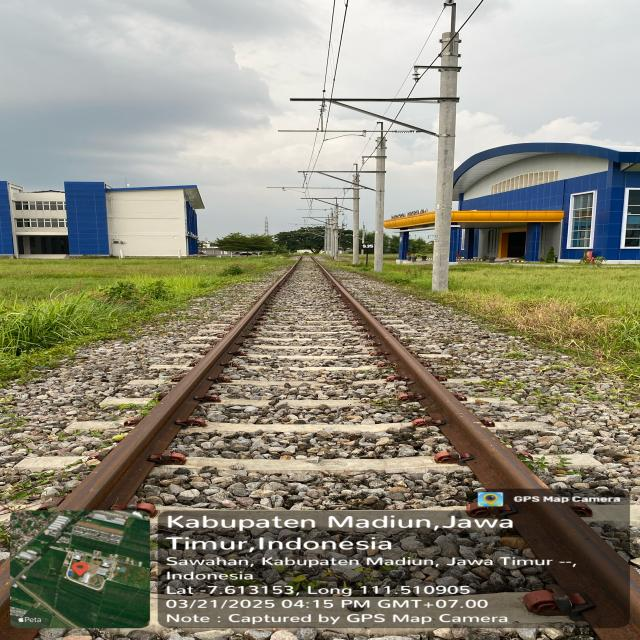rail-detection: (311, 255, 640, 640), (59, 256, 301, 510)
